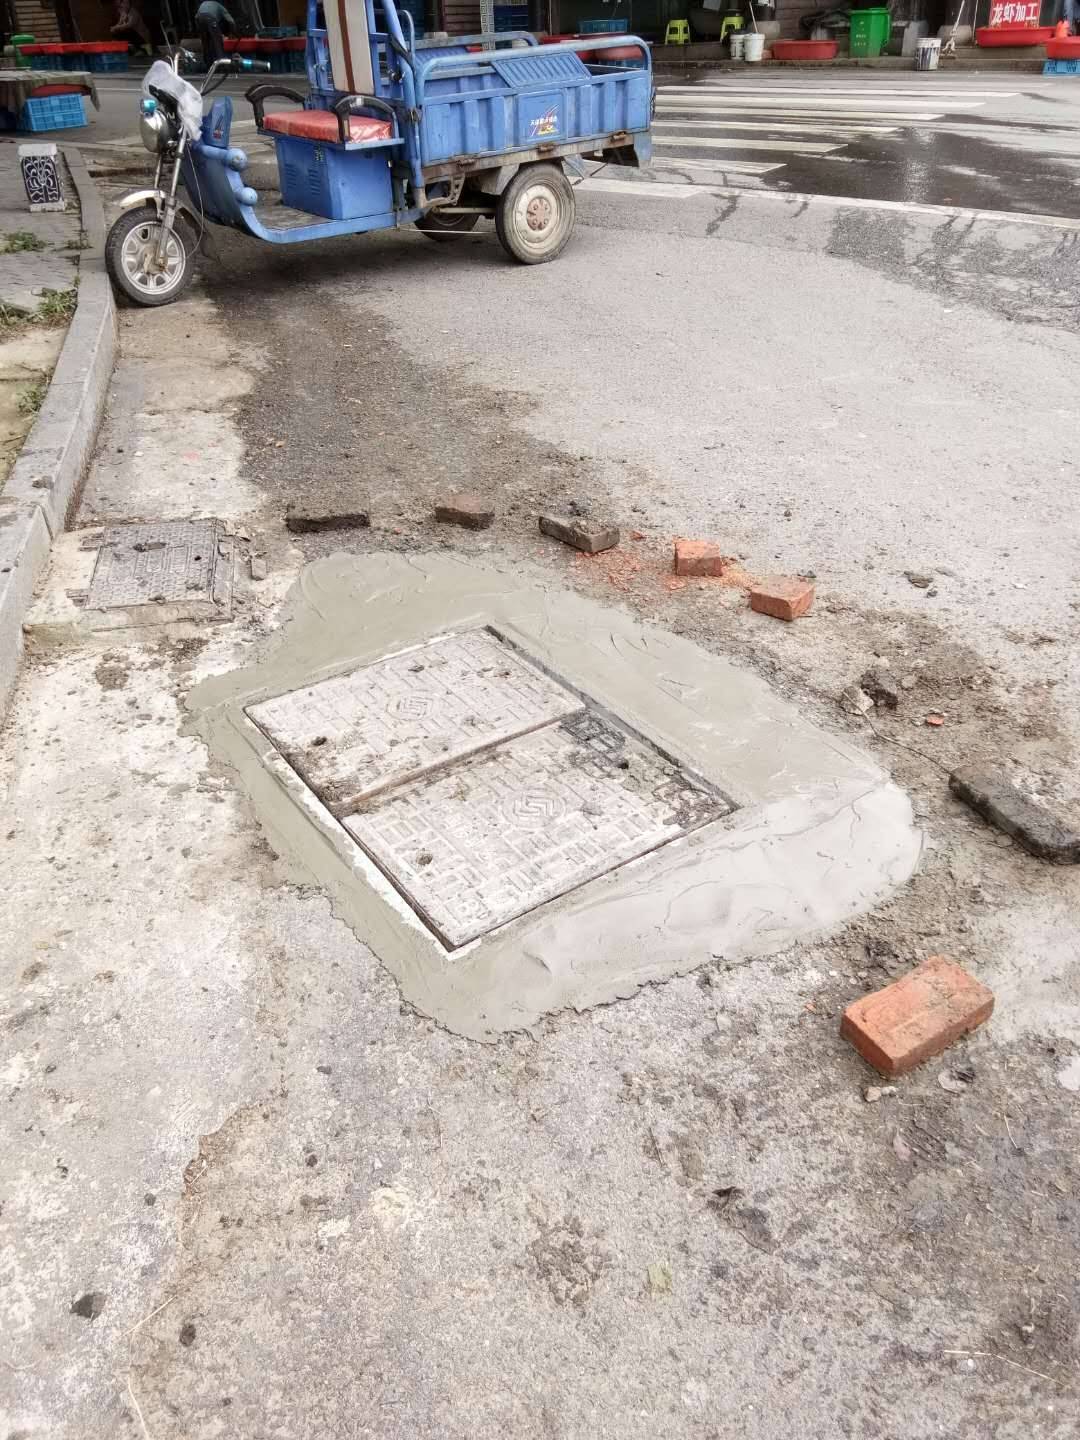well: (225, 610, 748, 964)
